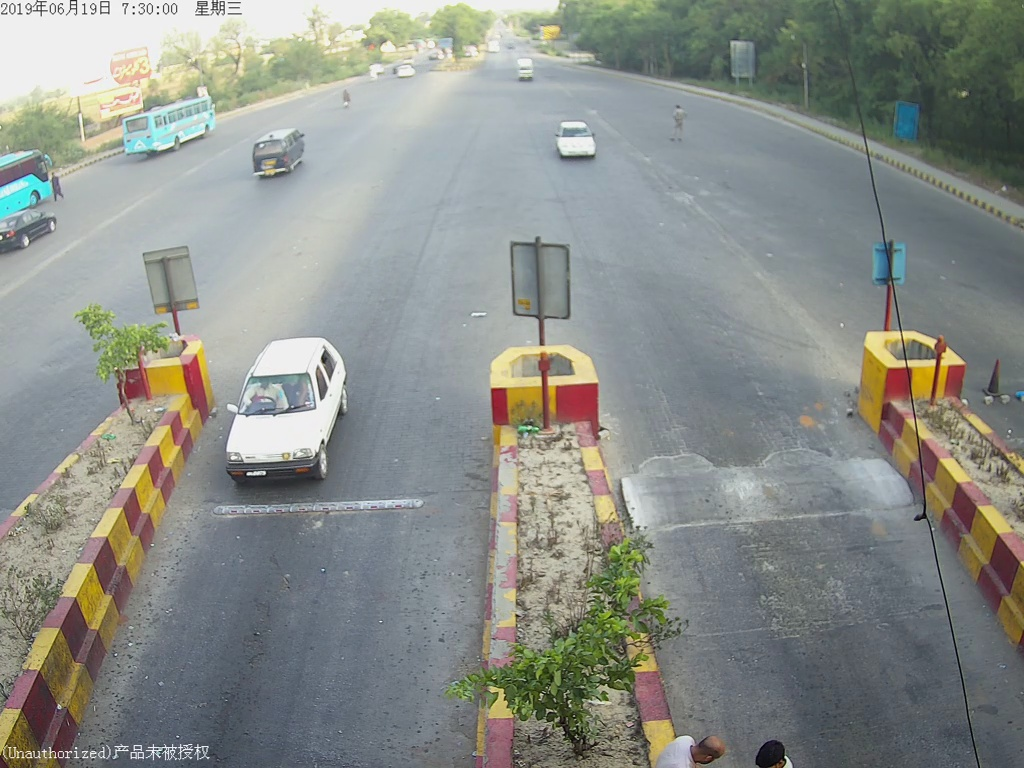Cat-1: (209, 334, 374, 493), (550, 112, 609, 169)
